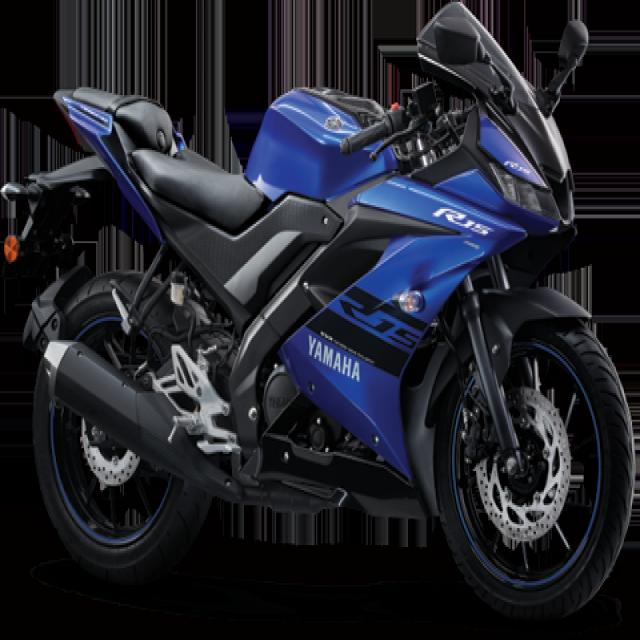Bike: (14, 28, 622, 640)
